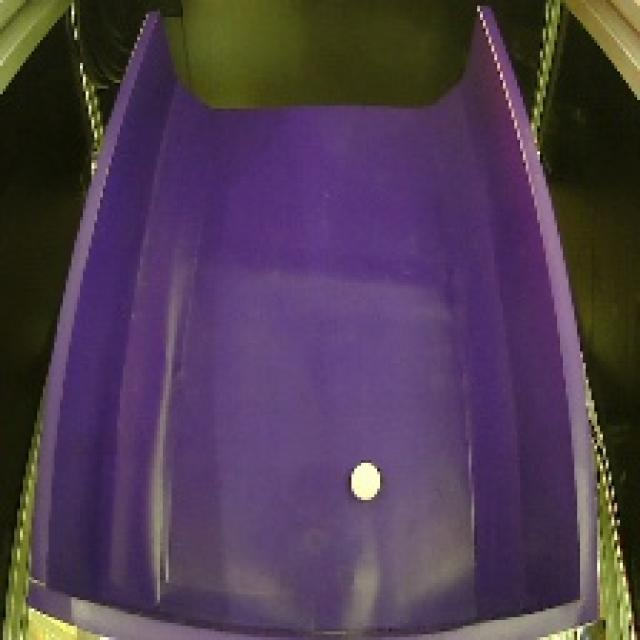small: (347, 457, 385, 504)
